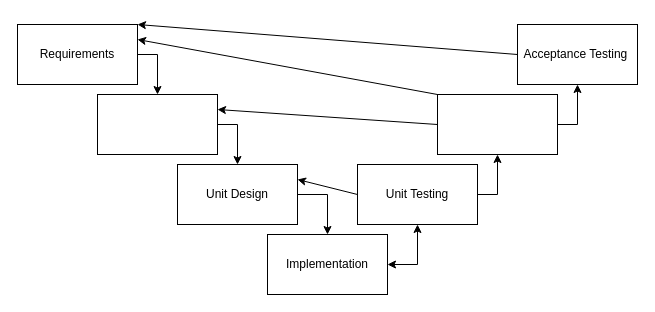
This 655x312 diagram has some shape labels left out. Here are the shapes that lost their labels. From the top down, the centre of each, then its label:
the point at 157,124: Design
the point at 497,124: Integration Testing
